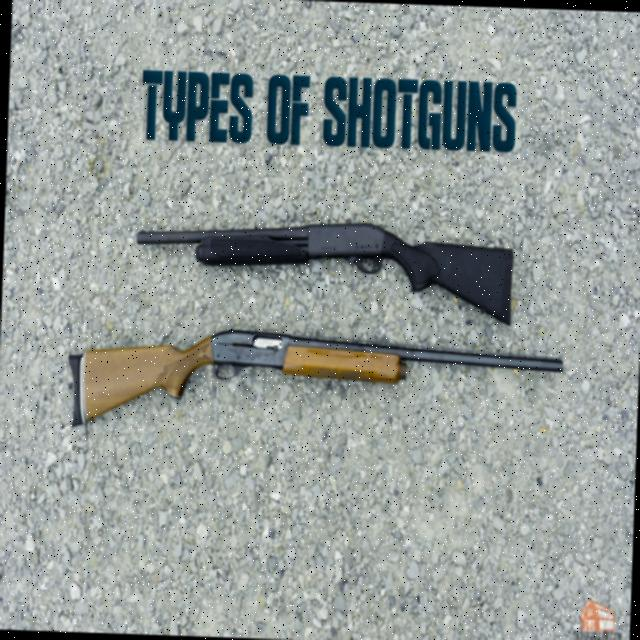Shotgun: (71, 323, 550, 435), (126, 208, 520, 334)
